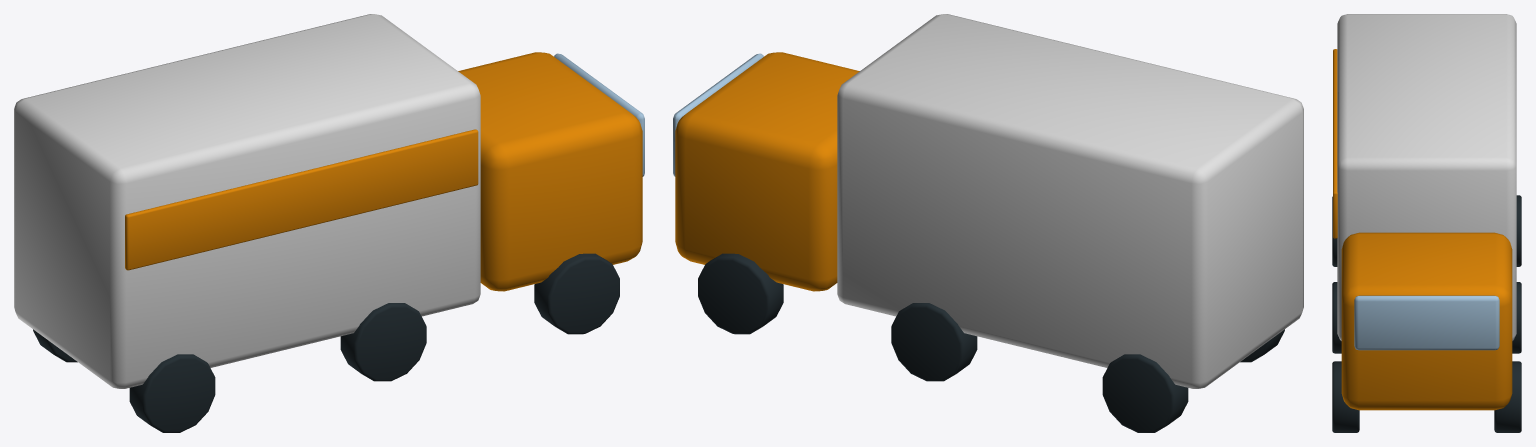
Rendered from prop_truck.glb.
3 renders of one model, left to right at view 1: azimuth 30°, elevation 25°; view 2: azimuth 150°, elevation 25°; view 3: azimuth 270°, elevation 25°, orthographic. The views are drawn at different scales.
Parts seen in each view (by area): view 1: prop_truck, Glass_prop_truck; view 2: prop_truck, Glass_prop_truck; view 3: prop_truck, Glass_prop_truck.
Part boxes in pixels (box(x1,y1,x2,y2)): prop_truck: box(14, 14, 642, 432); Glass_prop_truck: box(554, 53, 644, 176); prop_truck: box(675, 14, 1303, 432); Glass_prop_truck: box(673, 53, 763, 176); prop_truck: box(1332, 14, 1521, 432); Glass_prop_truck: box(1354, 295, 1499, 350).
Size of the model in its own units: 6.15 by 2.95 by 2.22.
